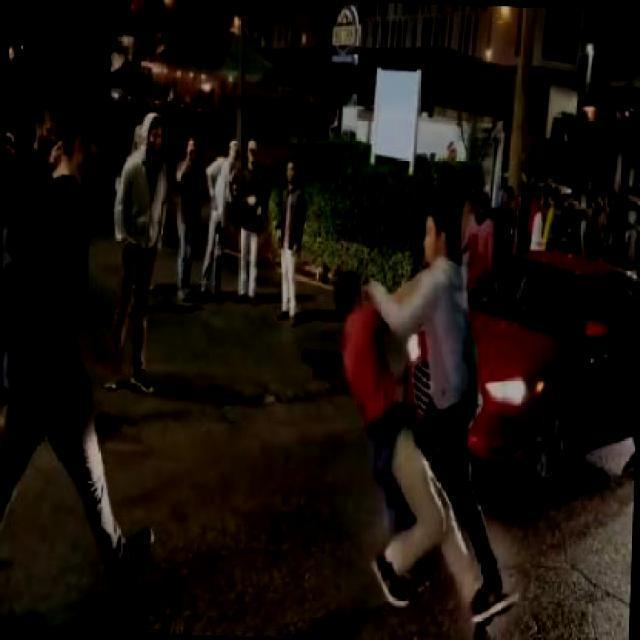fight: (326, 205, 531, 630)
non-fight: (4, 96, 170, 589), (172, 132, 272, 303), (272, 160, 308, 322)
